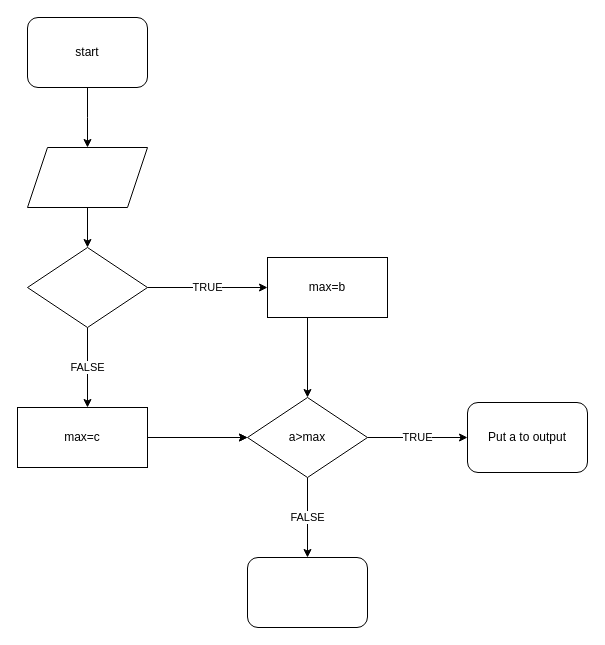
The diagram is 605 pixels wide and 645 high, and some of its shapes have lost their labels. The shapes that lost their labels are listed below. From the top down, each one's centre as x and y in pixels, then its label:
At point 87,177: "a,b,c".
At point 87,287: "b>c".
At point 307,592: "Put max to output".
